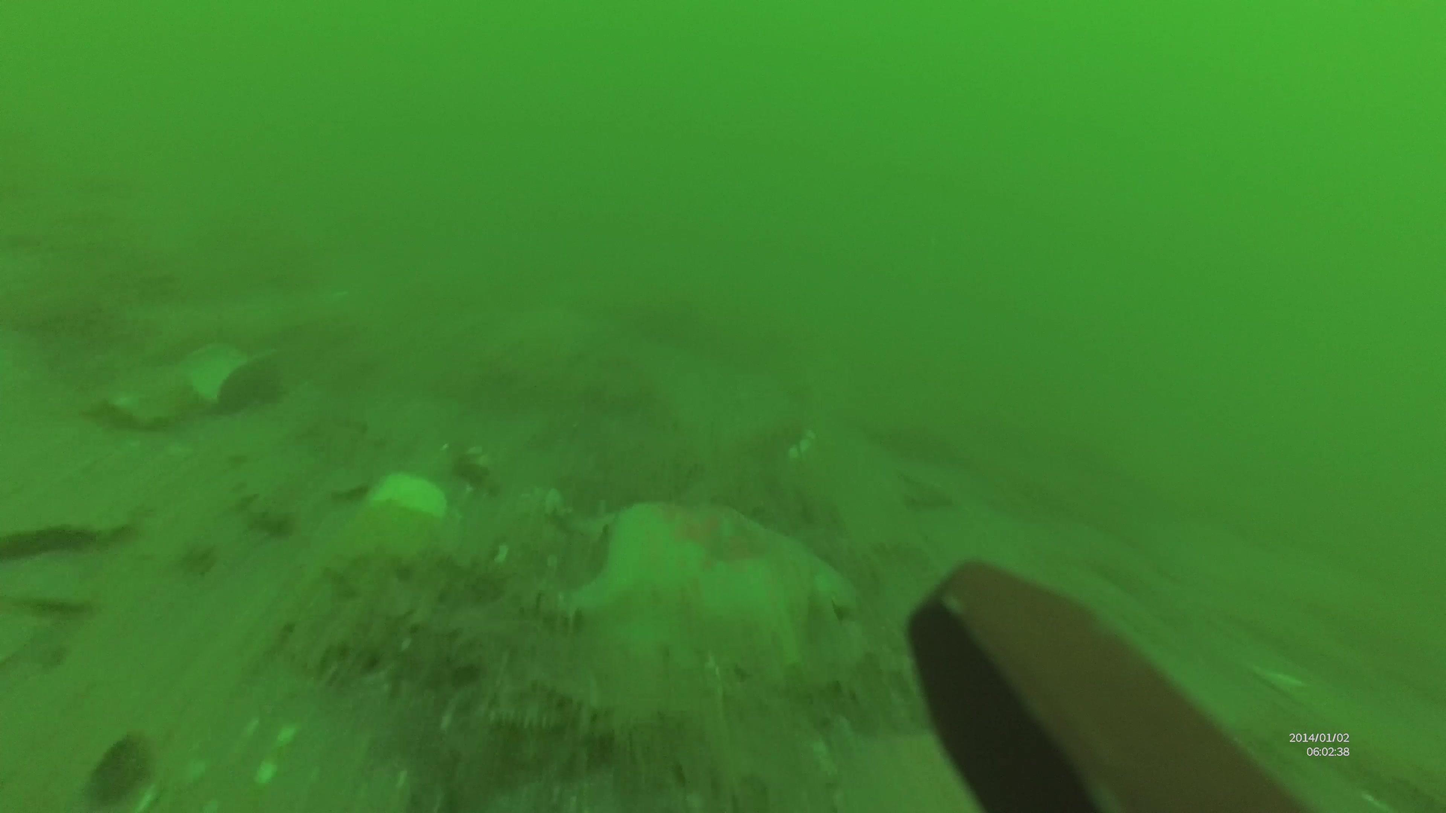holothurian: (581, 499, 855, 651)
